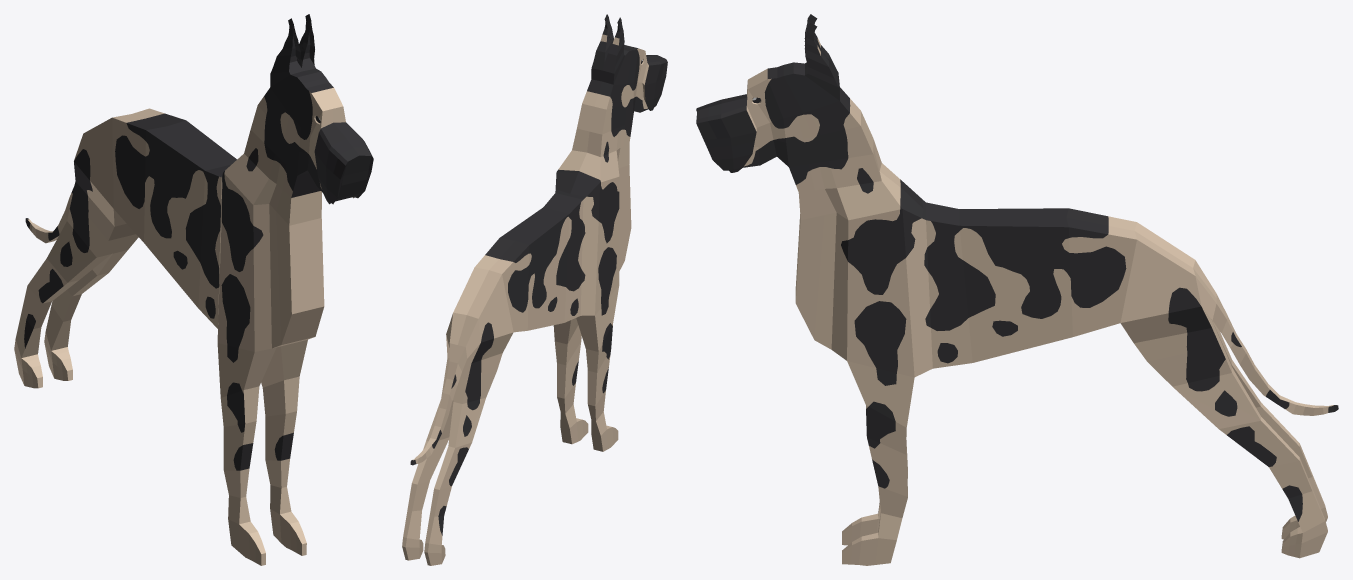
File: great_dane_low_poly.glb
3 renders of one model, left to right at view 1: azimuth 30°, elevation 25°; view 2: azimuth 150°, elevation 25°; view 3: azimuth 270°, elevation 25°, orthographic. The views are drawn at different scales.
Visible parts, largest first — view 1: Cube_1; view 2: Cube_1; view 3: Cube_1.
Part boxes in pixels (left/top/right/bottom): Cube_1: left=14, top=14, right=373, bottom=565; Cube_1: left=402, top=14, right=667, bottom=565; Cube_1: left=696, top=14, right=1338, bottom=565.
Bounding box in the file's own units: 0.1704 × 1.52 × 1.66.
